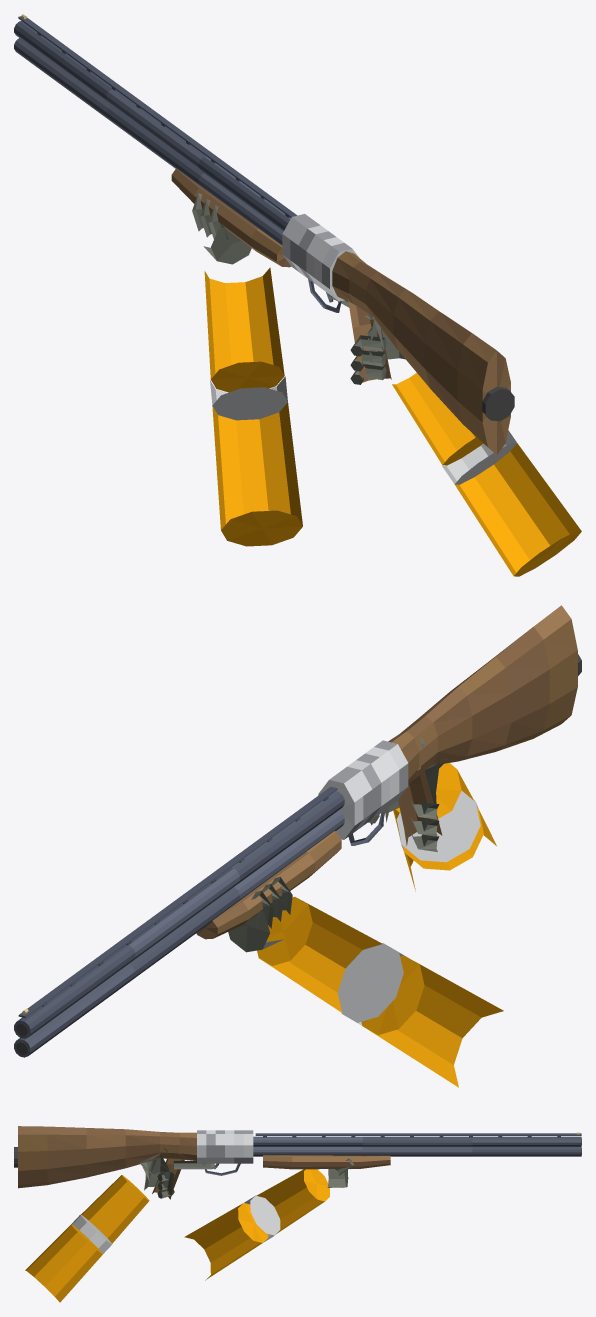
The model's file is haulikko.glb.
3 renders of one model, top to bottom at view 1: azimuth 30°, elevation 25°; view 2: azimuth 150°, elevation 25°; view 3: azimuth 270°, elevation 25°, orthographic. The views are drawn at different scales.
Visible parts, largest first — view 1: kasi_vasen, runko, kasi_oikea, piiput; view 2: runko, kasi_vasen, piiput, kasi_oikea; view 3: runko, piiput, kasi_oikea, kasi_vasen.
Boxes of the visible parts, x1=… form: kasi_vasen: x1=192, y1=193, x2=302, y2=546; runko: x1=282, y1=214, x2=514, y2=454; kasi_oikea: x1=328, y1=296, x2=581, y2=576; piiput: x1=14, y1=16, x2=297, y2=267; runko: x1=318, y1=605, x2=581, y2=846; kasi_vasen: x1=228, y1=876, x2=503, y2=1087; piiput: x1=14, y1=786, x2=344, y2=1057; kasi_oikea: x1=368, y1=737, x2=496, y2=891; runko: x1=14, y1=1126, x2=253, y2=1199; piiput: x1=253, y1=1133, x2=581, y2=1169; kasi_oikea: x1=25, y1=1147, x2=216, y2=1302; kasi_vasen: x1=184, y1=1158, x2=353, y2=1280.
Bounding box in the file's own units: 0.3127 × 0.392 × 1.16.
